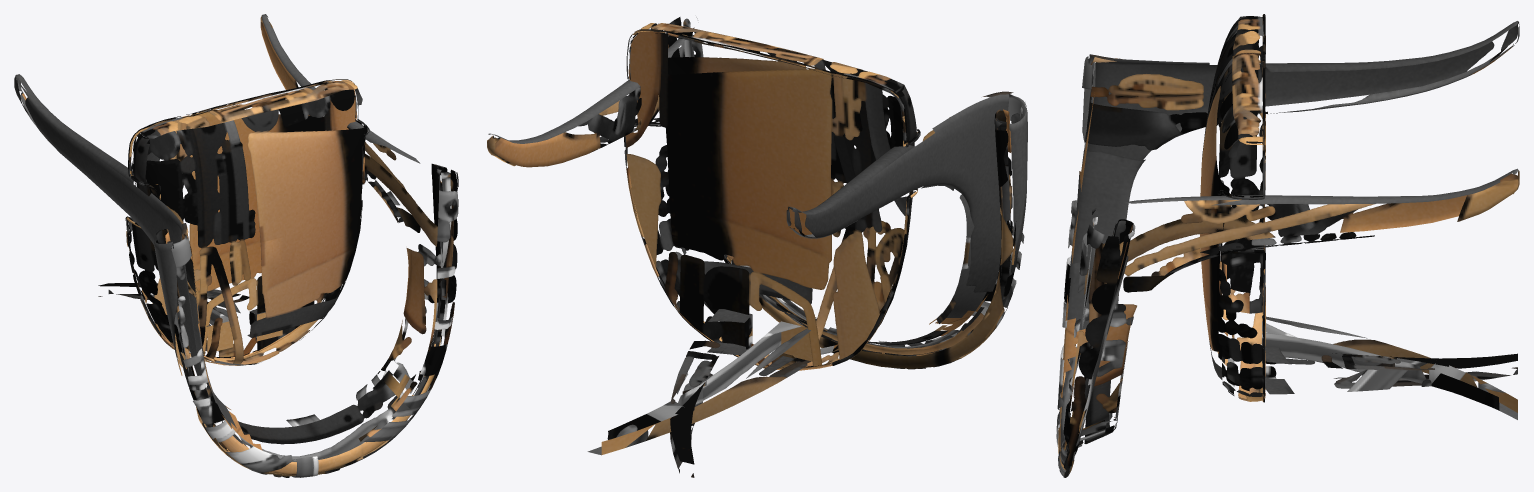
3 views of the same model, side by side, from view 1: azimuth 30°, elevation 25°; view 2: azimuth 150°, elevation 25°; view 3: azimuth 270°, elevation 25° (orthographic). The views are drawn at different scales.
Size of the model in its own units: 0.6 by 0.6064 by 0.6581.
